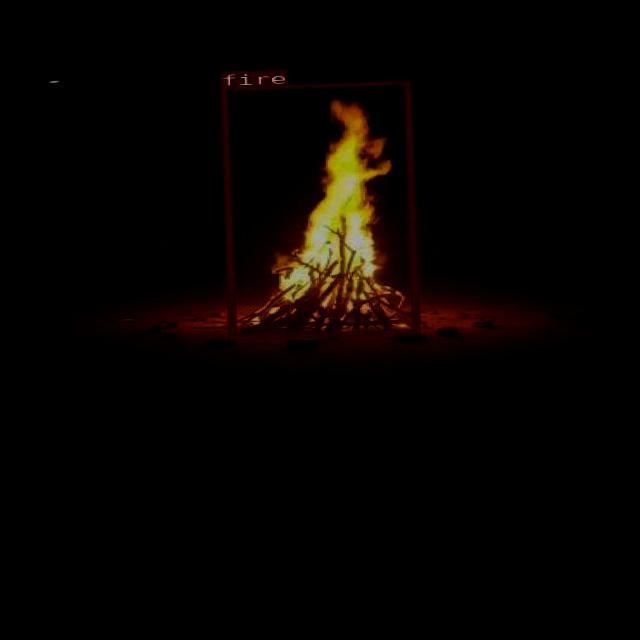fire: (218, 80, 418, 338)
